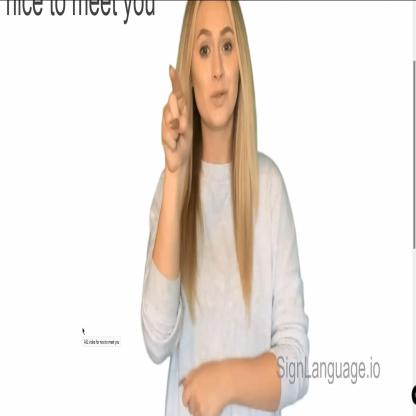NiceToMeetYou: (156, 60, 245, 416)
